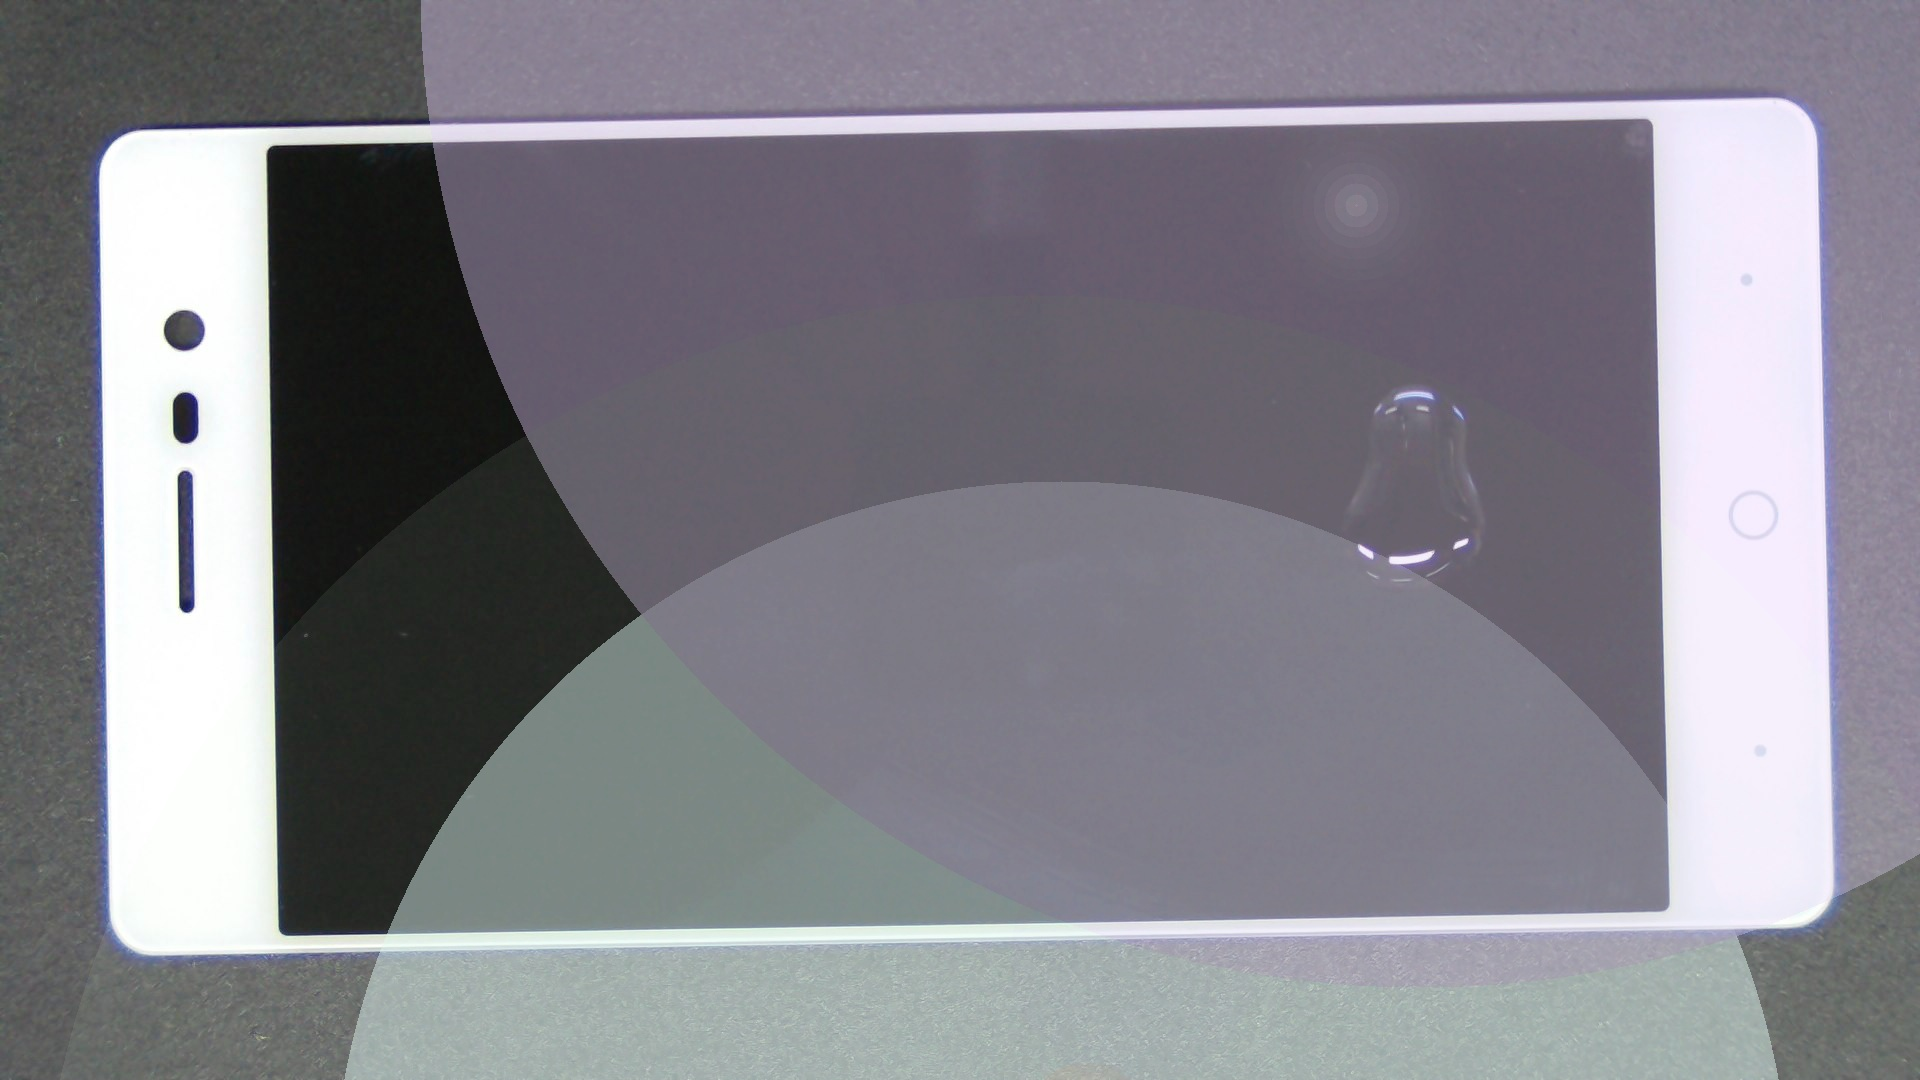oil: (705, 191, 1920, 575)
